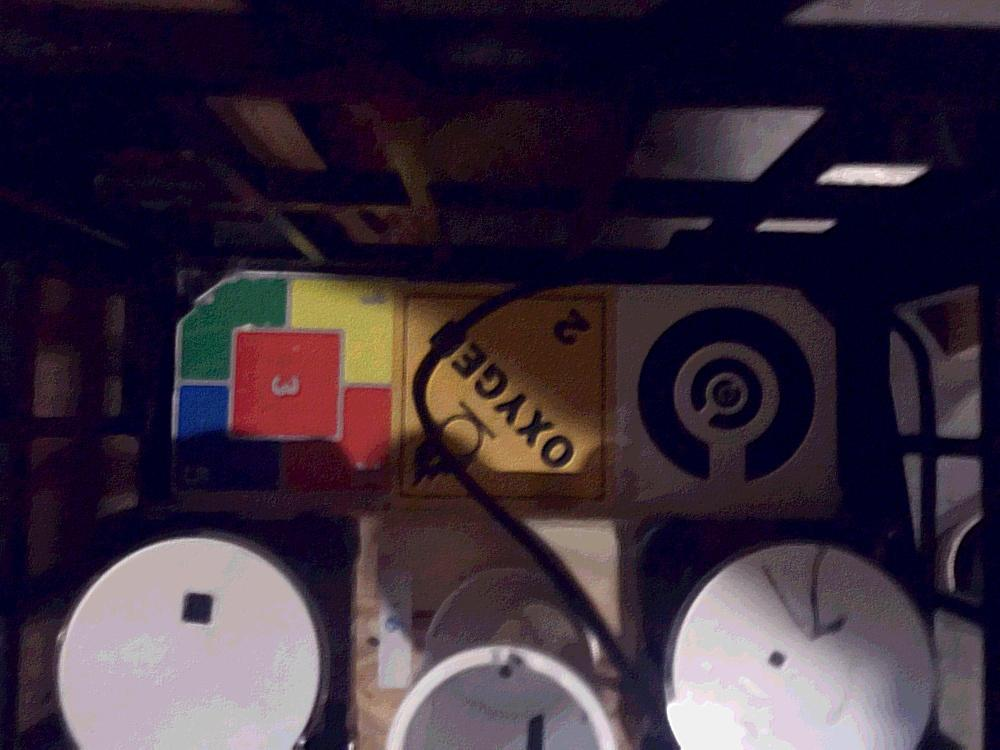oxidizer: (395, 276, 612, 518)
